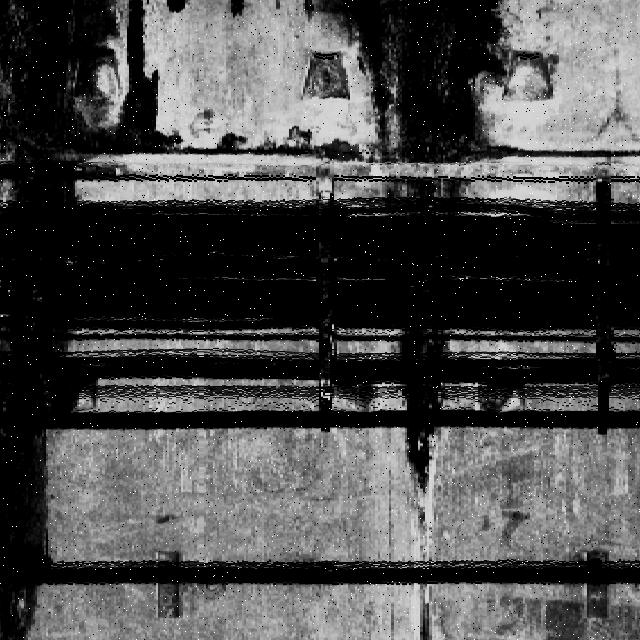leakage: (320, 1, 521, 497), (1, 317, 108, 638), (1, 0, 191, 153), (1, 168, 98, 206)
